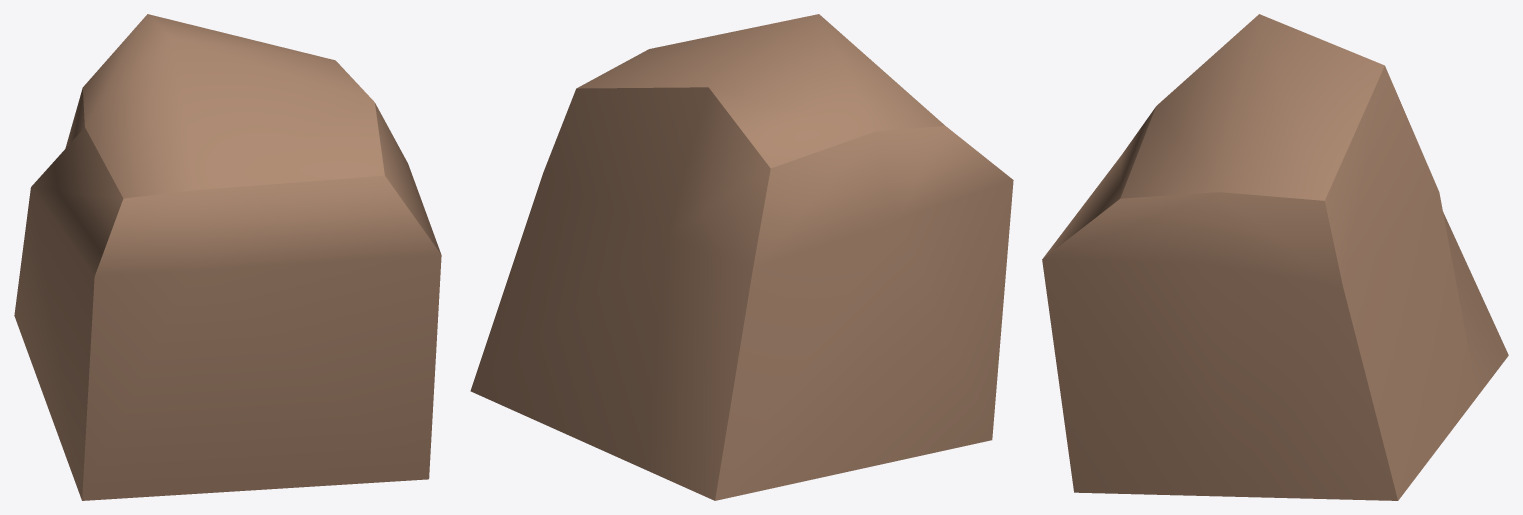
File: CI_Rock_03.fbx
3 renders of one model, left to right at view 1: azimuth 30°, elevation 25°; view 2: azimuth 150°, elevation 25°; view 3: azimuth 270°, elevation 25°, orthographic. The views are drawn at different scales.
Visible parts, largest first — view 1: CI_Rock_03; view 2: CI_Rock_03; view 3: CI_Rock_03.
Part boxes in pixels (x1,y1,x2,y2): CI_Rock_03: (14, 14, 441, 500); CI_Rock_03: (470, 14, 1013, 500); CI_Rock_03: (1042, 14, 1508, 500).
Size of the model in its own units: 21.26 by 21.29 by 22.45.
